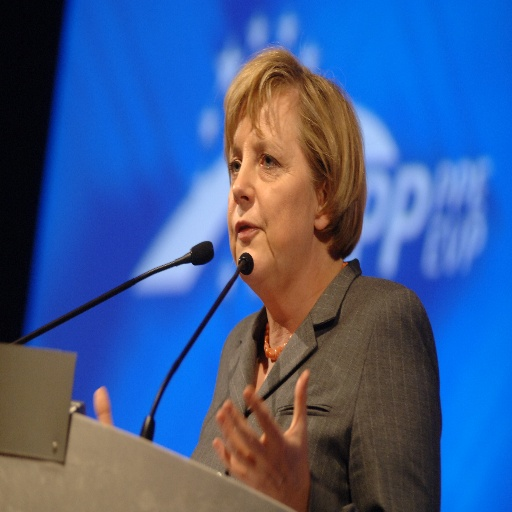hand: (204, 379, 315, 481), (91, 388, 113, 425)
